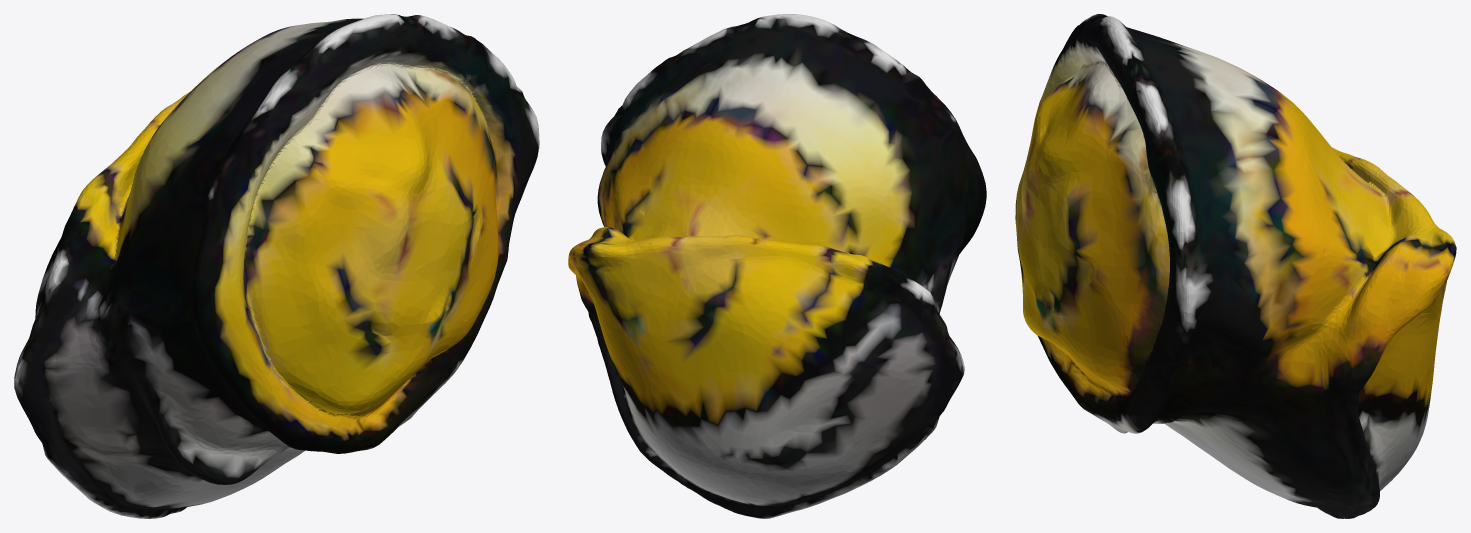
The model's file is stew_veg.glb.
3 views of the same model, side by side, from view 1: azimuth 30°, elevation 25°; view 2: azimuth 150°, elevation 25°; view 3: azimuth 270°, elevation 25° (orthographic). The views are drawn at different scales.
Parts seen in each view (by area): view 1: geometry_0; view 2: geometry_0; view 3: geometry_0.
Part boxes in pixels (x1,y1,x2,y2): geometry_0: (14,14,539,518); geometry_0: (568,14,986,518); geometry_0: (1015,14,1456,518).
Size of the model in its own units: 0.5312 by 0.5663 by 0.4409.
